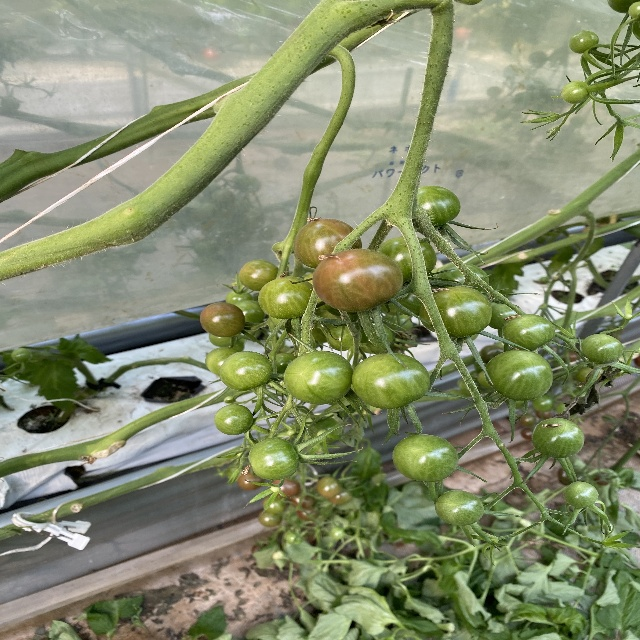l_green: (353, 352, 431, 409), (420, 285, 491, 338), (284, 351, 353, 404), (486, 350, 552, 401), (392, 434, 457, 482), (380, 236, 437, 284), (258, 276, 313, 320), (248, 438, 299, 480), (219, 351, 272, 391), (533, 418, 584, 457), (503, 314, 555, 352), (435, 490, 483, 525), (419, 187, 461, 227), (581, 334, 623, 363), (239, 261, 277, 291), (214, 405, 252, 435), (563, 482, 599, 509)
l_half_ripened: (312, 249, 402, 311), (293, 218, 362, 269), (200, 303, 245, 337)
